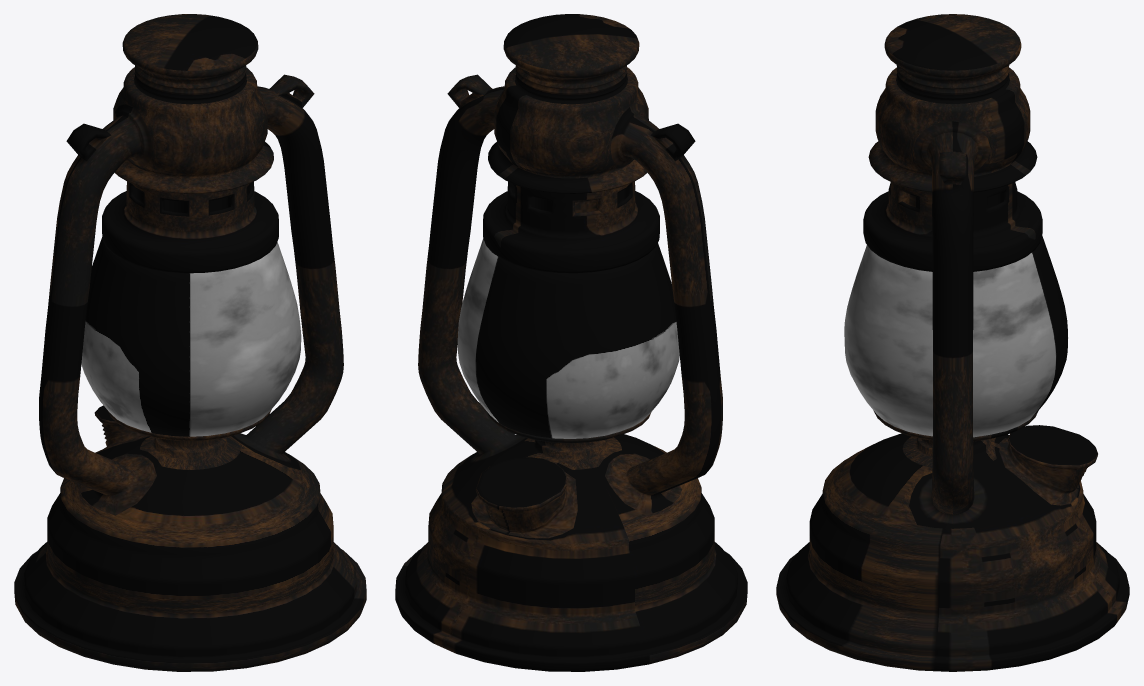
Rendered from newerLantern.fbx.
3 views of the same model, side by side, from view 1: azimuth 30°, elevation 25°; view 2: azimuth 150°, elevation 25°; view 3: azimuth 270°, elevation 25° (orthographic).
Parts seen in each view (by area): view 1: body a classic lantern.001, glass a classic lantern.001; view 2: body a classic lantern.001, glass a classic lantern.001; view 3: body a classic lantern.001, glass a classic lantern.001.
Part boxes in pixels (bbox=[...]): body a classic lantern.001: bbox=[14, 14, 366, 671]; glass a classic lantern.001: bbox=[81, 237, 301, 436]; body a classic lantern.001: bbox=[395, 14, 747, 671]; glass a classic lantern.001: bbox=[457, 239, 679, 438]; body a classic lantern.001: bbox=[776, 14, 1129, 671]; glass a classic lantern.001: bbox=[844, 235, 1067, 437].
Size of the model in its own units: 271 by 479 by 271.
